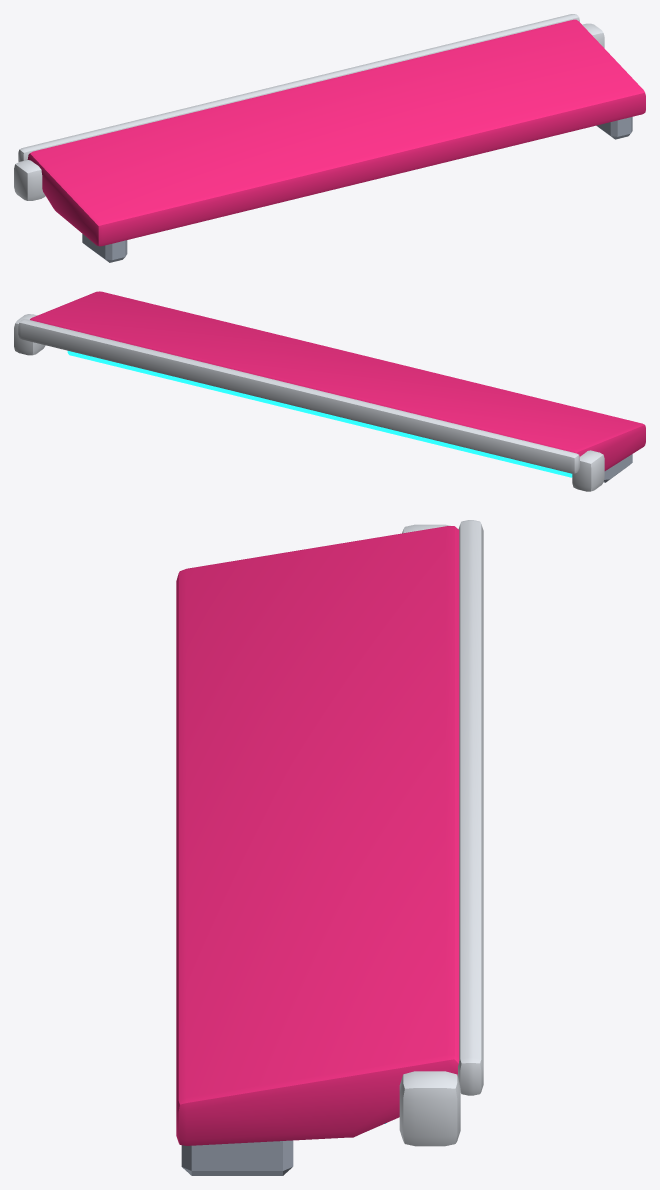
The model's file is visor_sunshade.glb.
The picture shows the model from 3 angles, top to bottom: view 1: azimuth 30°, elevation 25°; view 2: azimuth 150°, elevation 25°; view 3: azimuth 270°, elevation 25°; orthographic projection. The views are drawn at different scales.
Parts seen in each view (by area): view 1: paint_pink, chrome, steel; view 2: paint_pink, chrome, lamp_cyan, steel; view 3: paint_pink, chrome, steel.
Part boxes in pixels (x1,y1,x2,y2): paint_pink: [27, 19, 645, 246]; chrome: [14, 14, 604, 200]; steel: [82, 117, 632, 262]; paint_pink: [30, 291, 645, 470]; chrome: [14, 314, 604, 491]; lamp_cyan: [67, 351, 572, 477]; steel: [603, 454, 632, 482]; paint_pink: [176, 526, 459, 1145]; chrome: [399, 520, 483, 1146]; steel: [181, 1140, 293, 1175].
Size of the model in its own units: 2.64 by 0.29 by 0.605.
